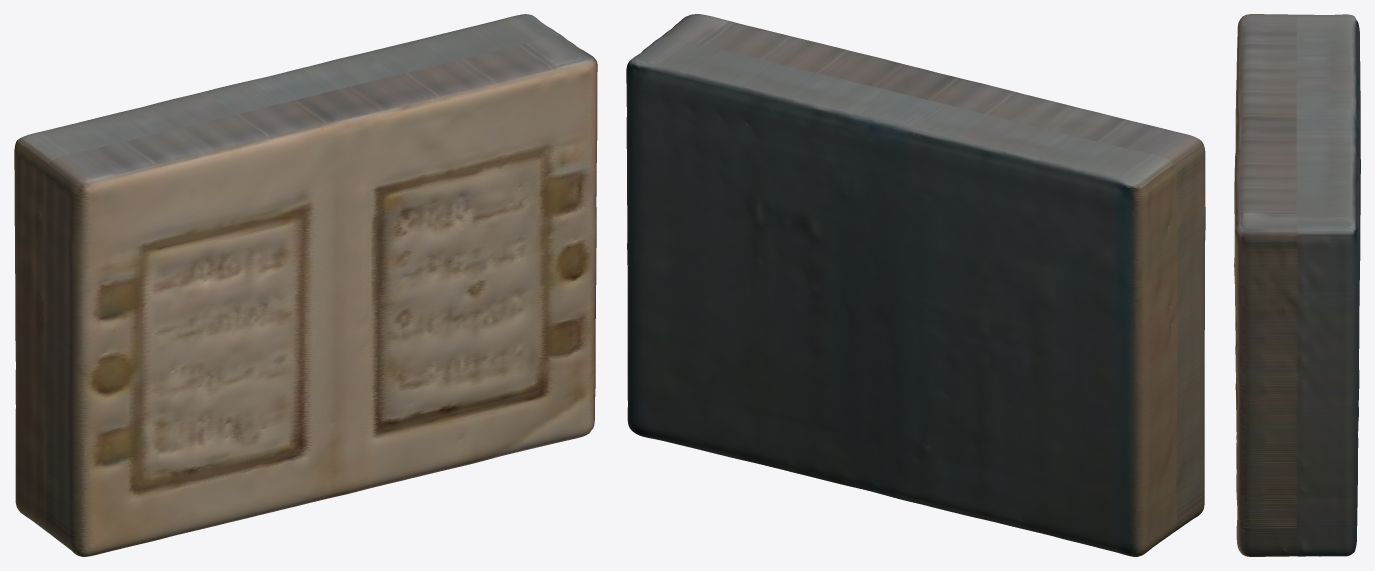
File: kfl-2200.glb
3 renders of one model, left to right at view 1: azimuth 30°, elevation 25°; view 2: azimuth 150°, elevation 25°; view 3: azimuth 270°, elevation 25°, orthographic. The views are drawn at different scales.
Parts seen in each view (by area): view 1: geometry_0; view 2: geometry_0; view 3: geometry_0.
Boxes of the visible parts, x1,y1,x2,y2 form: geometry_0: (14,14,597,556); geometry_0: (626,14,1205,556); geometry_0: (1234,14,1360,556).
Bounding box in the file's own units: 0.995 × 0.6899 × 0.2387.
1 material, 1 textured.
